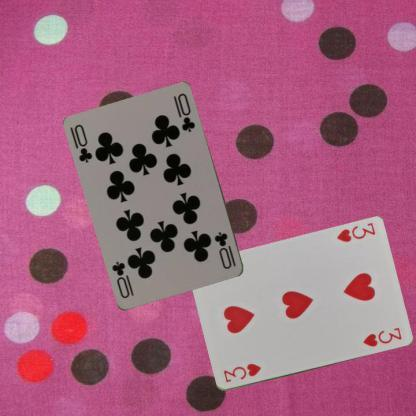10c: (68, 122, 94, 165), (212, 230, 237, 270)
3h: (334, 220, 377, 244), (220, 361, 262, 384)
